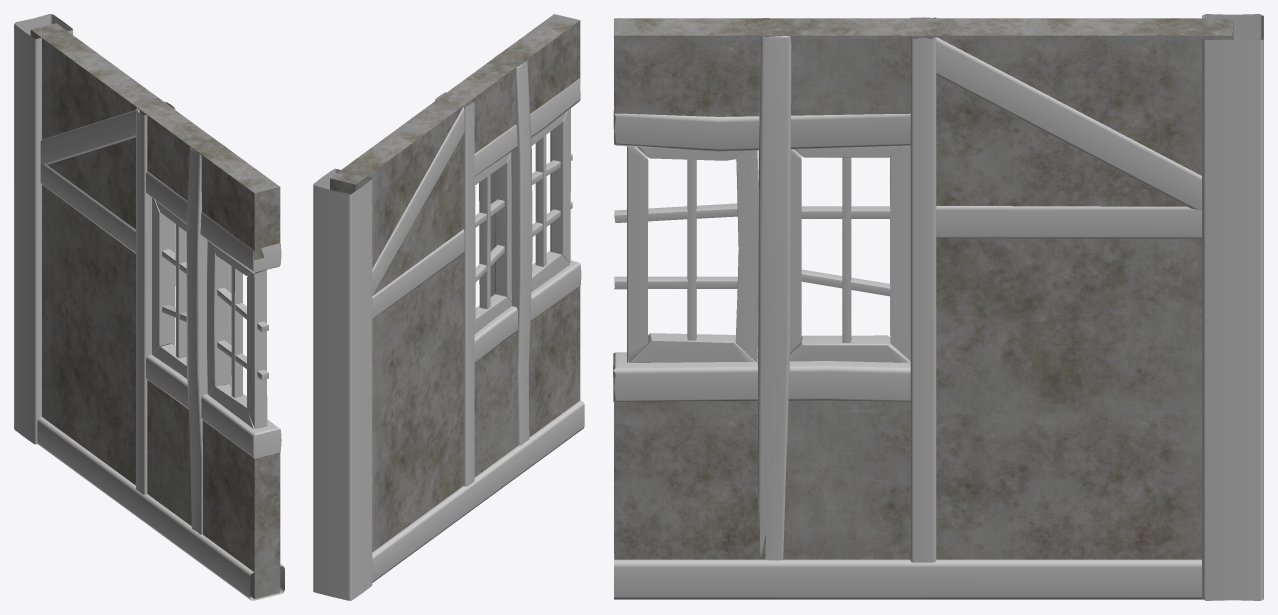
Rendered from SM_Wall01.fbx.
The picture shows the model from 3 angles, left to right: view 1: azimuth 30°, elevation 25°; view 2: azimuth 150°, elevation 25°; view 3: azimuth 270°, elevation 25°; orthographic projection. The views are drawn at different scales.
Visible parts, largest first — view 1: SM_Wall01_LOD0; view 2: SM_Wall01_LOD0; view 3: SM_Wall01_LOD0.
Part boxes in pixels (<box>): SM_Wall01_LOD0: <box>14,14,284,600</box>; SM_Wall01_LOD0: <box>313,14,584,600</box>; SM_Wall01_LOD0: <box>613,14,1263,600</box>.
Bounding box in the file's own units: 30 × 315 × 301.
